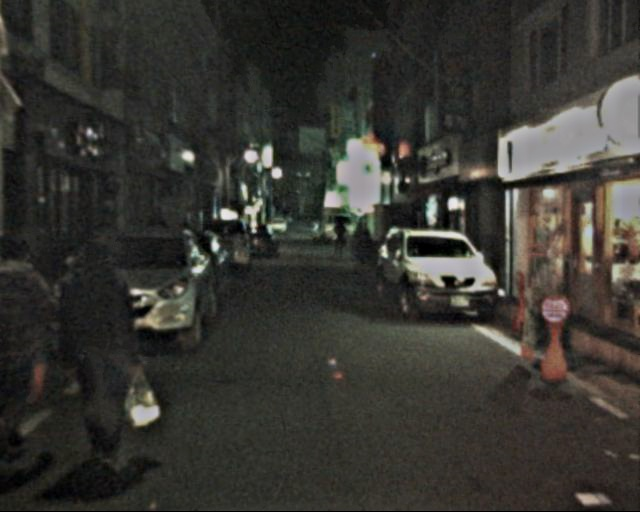person: (54, 233, 155, 462), (4, 221, 61, 463), (330, 219, 350, 267)
